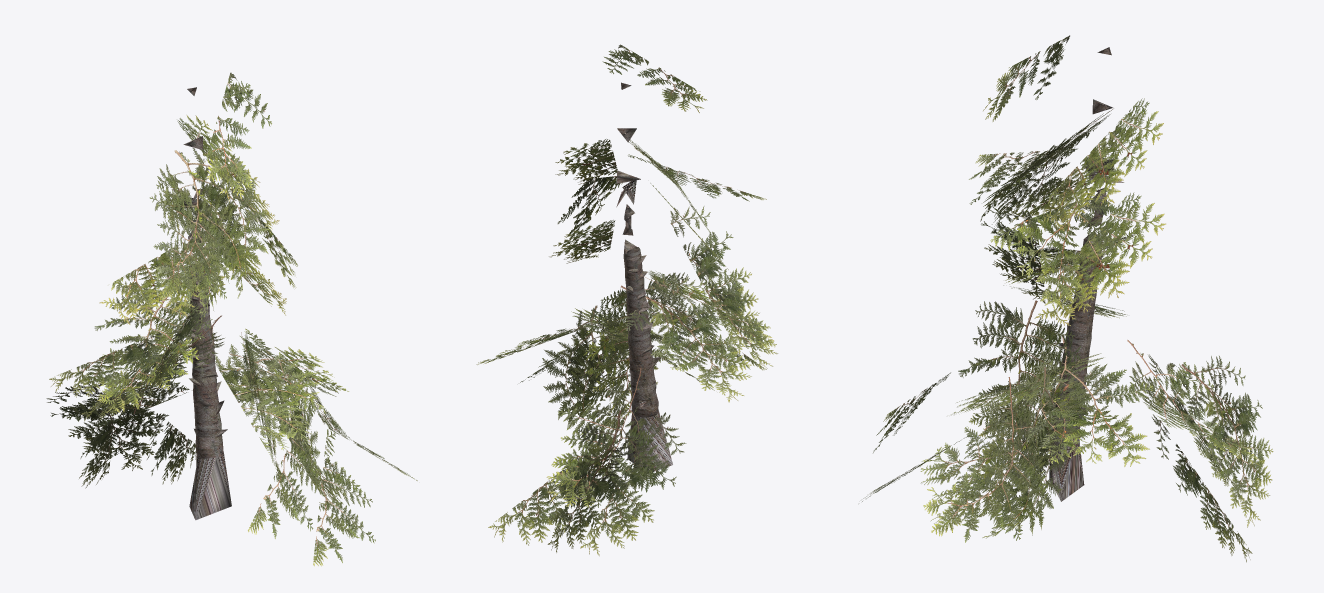
The model's file is realfirfar.glb.
3 views of the same model, side by side, from view 1: azimuth 30°, elevation 25°; view 2: azimuth 150°, elevation 25°; view 3: azimuth 270°, elevation 25° (orthographic). The views are drawn at different scales.
Visible parts, largest first — view 1: Object_3, Object_6, Object_8, Object_2, Object_7, Object_9, Object_5, Object_4; view 2: Object_6, Object_5, Object_2, Object_9, Object_3, Object_7, Object_4, Object_8; view 3: Object_3, Object_4, Object_6, Object_7, Object_8, Object_9, Object_5, Object_2.
Part boxes in pixels (x1,y1,x2,y2): Object_3: [149, 148, 349, 516]; Object_6: [46, 273, 224, 488]; Object_8: [162, 182, 417, 566]; Object_2: [179, 87, 231, 520]; Object_7: [99, 115, 286, 324]; Object_9: [94, 281, 287, 499]; Object_5: [67, 72, 271, 426]; Object_4: [229, 194, 348, 396]; Object_6: [488, 206, 778, 556]; Object_5: [546, 44, 707, 507]; Object_2: [616, 82, 672, 471]; Object_9: [583, 270, 774, 417]; Object_3: [542, 139, 714, 425]; Object_7: [549, 139, 730, 272]; Object_4: [476, 176, 622, 364]; Object_8: [520, 154, 766, 390]; Object_3: [919, 108, 1113, 538]; Object_4: [990, 189, 1153, 466]; Object_6: [981, 206, 1273, 562]; Object_7: [1009, 98, 1165, 326]; Object_8: [862, 148, 1074, 542]; Object_9: [958, 232, 1139, 501]; Object_5: [983, 35, 1260, 465]; Object_2: [1046, 47, 1124, 501].
Size of the model in its own units: 4.2 by 7 by 5.09.
8 materials, 8 textured.
